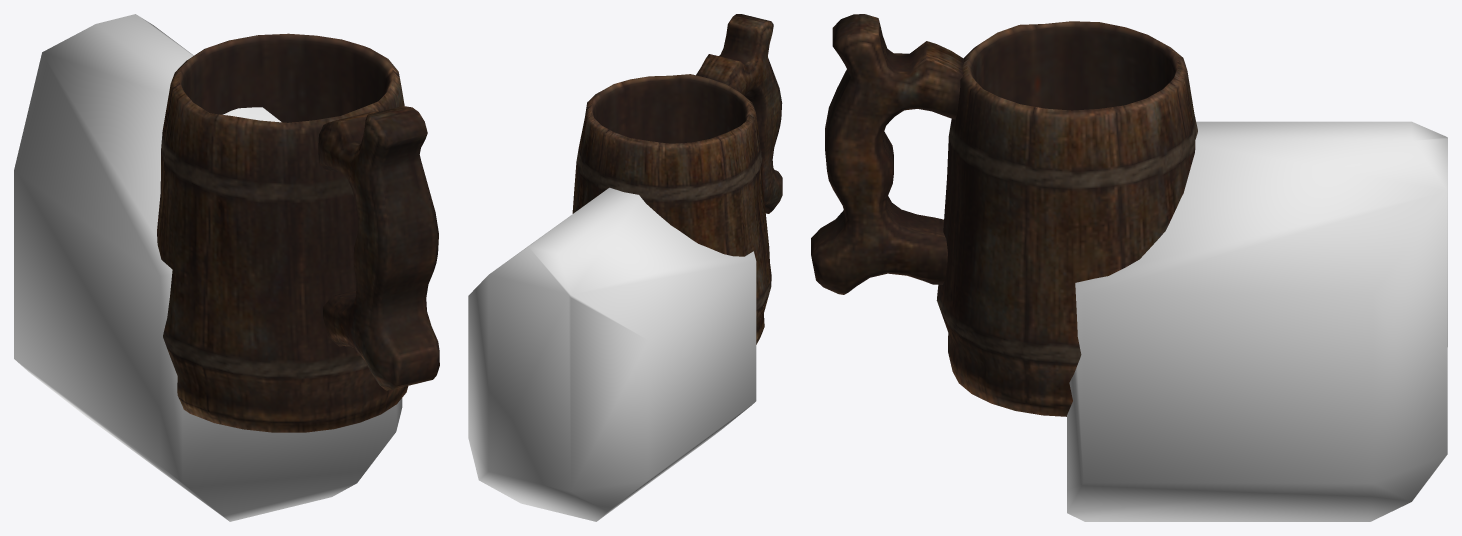
Rendered from SM_Mug.fbx.
3 renders of one model, left to right at view 1: azimuth 30°, elevation 25°; view 2: azimuth 150°, elevation 25°; view 3: azimuth 270°, elevation 25°, orthographic. The views are drawn at different scales.
Parts seen in each view (by area): view 1: SM_Mug, SM_Mug_ConvexHulls; view 2: SM_Mug_ConvexHulls, SM_Mug; view 3: SM_Mug_ConvexHulls, SM_Mug.
Boxes of the visible parts, x1,y1,x2,y2 form: SM_Mug: (157, 33, 439, 432); SM_Mug_ConvexHulls: (14, 14, 402, 521); SM_Mug_ConvexHulls: (468, 187, 756, 521); SM_Mug: (572, 14, 782, 344); SM_Mug_ConvexHulls: (1067, 121, 1447, 521); SM_Mug: (811, 14, 1197, 416).
Size of the model in its own units: 0.1722 by 0.3244 by 0.3953.
